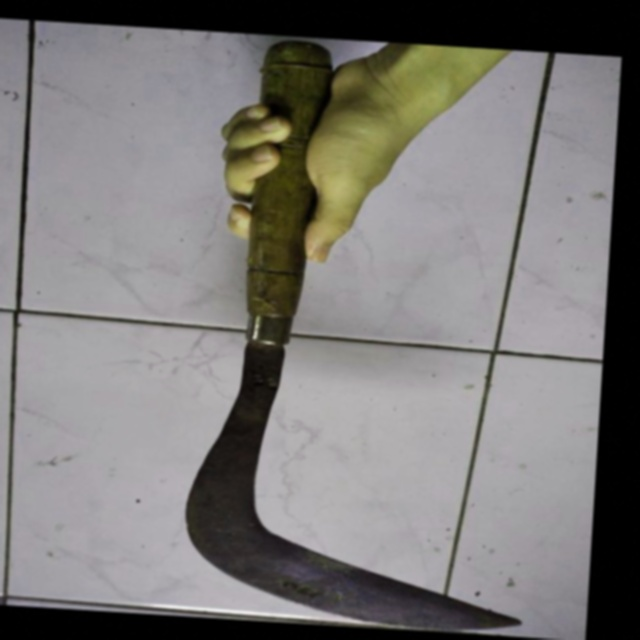Sharp-Object: (166, 45, 596, 640)
